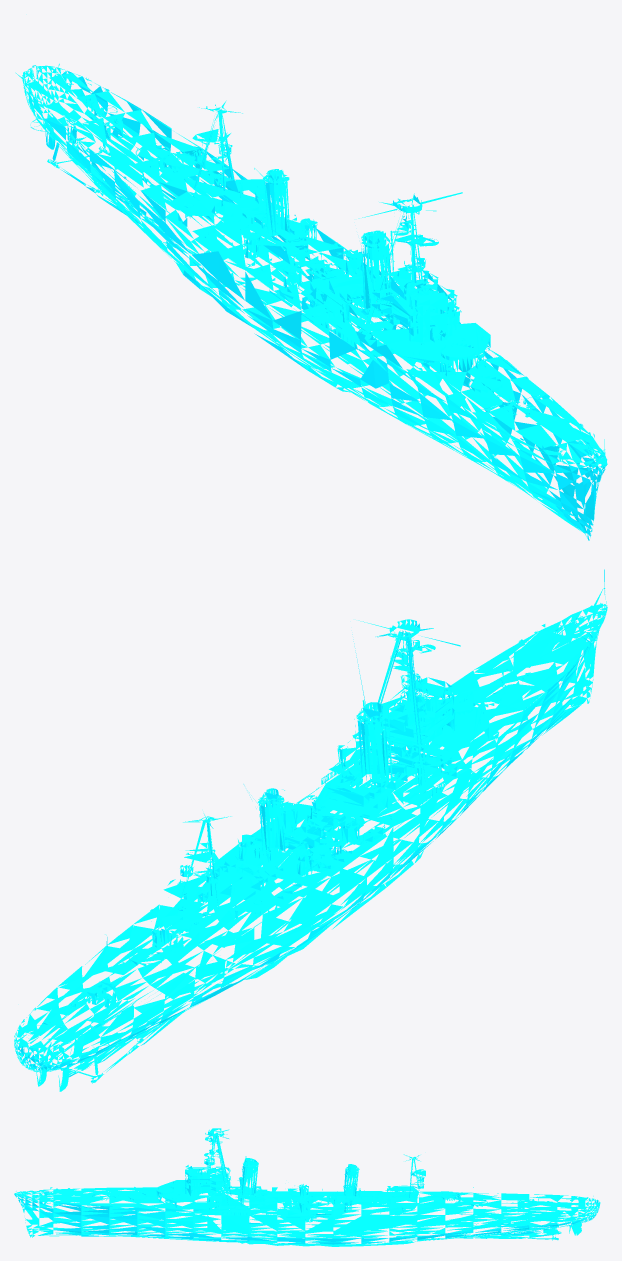
File: Dupleix.glb
The picture shows the model from 3 angles, top to bottom: view 1: azimuth 30°, elevation 25°; view 2: azimuth 150°, elevation 25°; view 3: azimuth 270°, elevation 25°; orthographic projection. The views are drawn at different scales.
Size of the model in its own units: 1.52 by 2.62 by 13.08.
